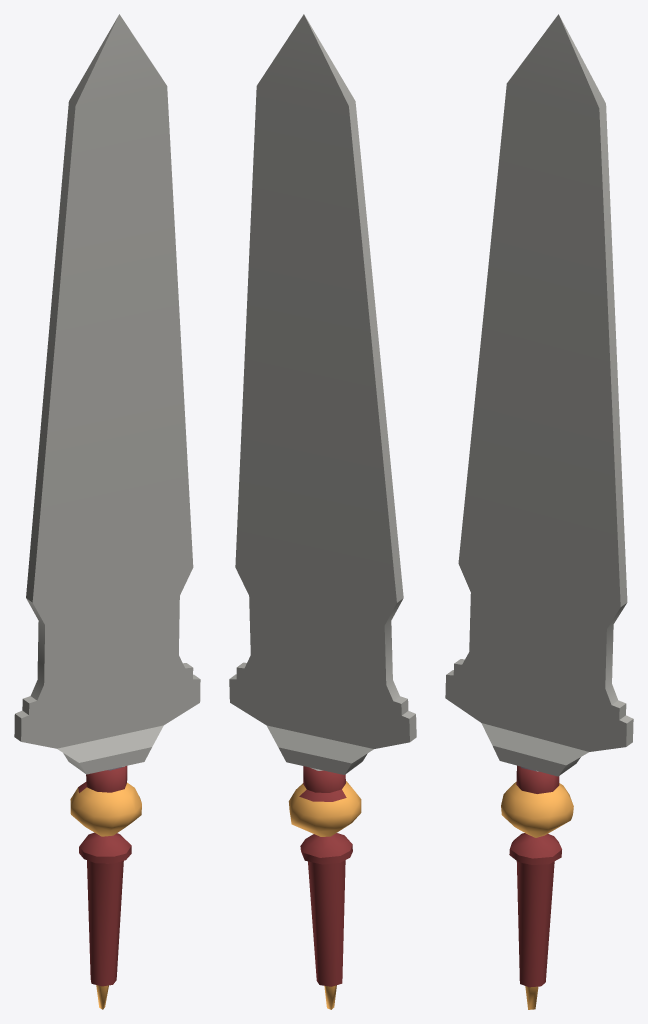
Rendered from Sword.fbx.
The picture shows the model from 3 angles, left to right: view 1: azimuth 30°, elevation 25°; view 2: azimuth 150°, elevation 25°; view 3: azimuth 330°, elevation 25°; orthographic projection.
Parts seen in each view (by area): view 1: Cylinder.001; view 2: Cylinder.001; view 3: Cylinder.001.
Part boxes in pixels (bbox=[...]): Cylinder.001: bbox=[14, 14, 200, 1009]; Cylinder.001: bbox=[229, 14, 416, 1009]; Cylinder.001: bbox=[445, 14, 633, 1009].
Bounding box in the file's own units: 21.75 × 114 × 7.56.
